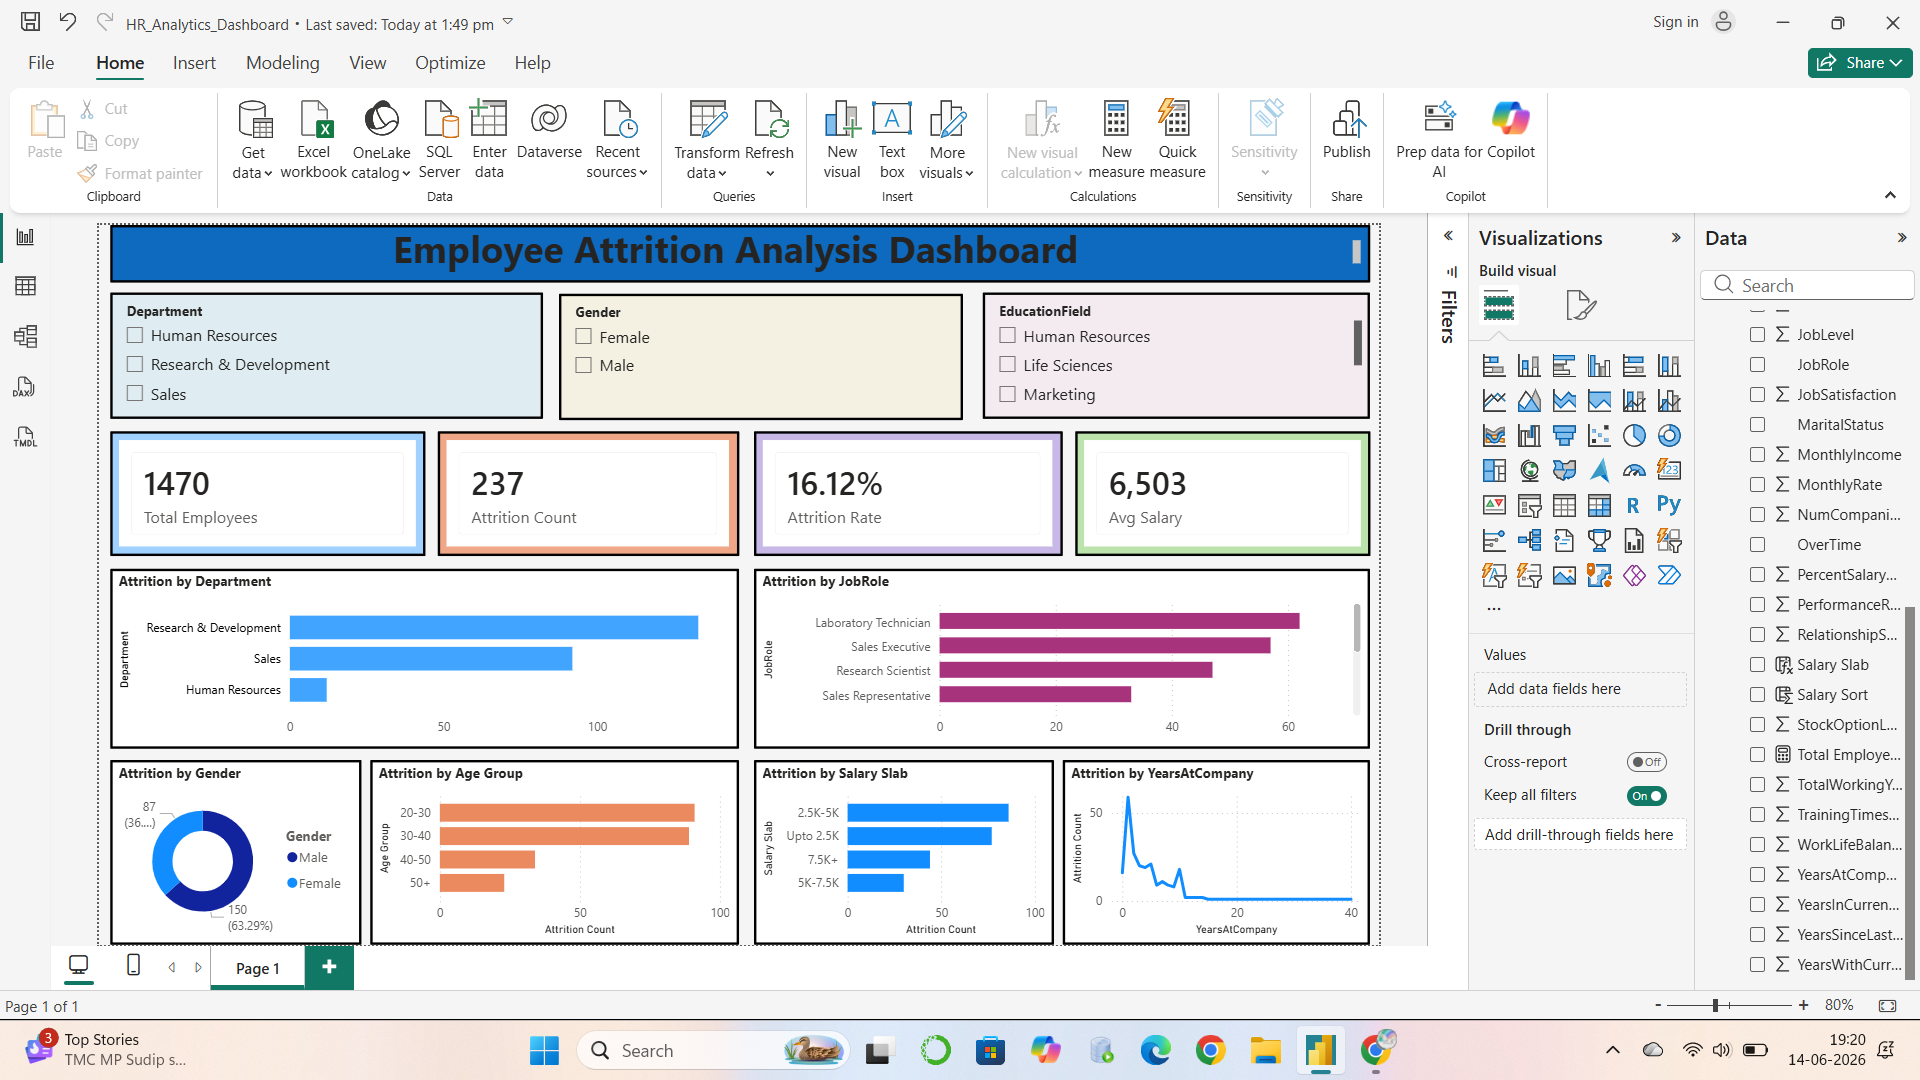

The page's visual inventory and layout, read from the dashboard file:
{"tool":"powerbi","page":{"name":"Page 1","canvas":[1280,720],"ordinal":0},"visuals":[{"type":"cardVisual","fields":{"Data":["WA_Fn-UseC_-HR-Employee-Attrition.Attrition Count"]},"box":[338.8,206.2,301.2,125],"z":0},{"type":"cardVisual","fields":{"Data":["WA_Fn-UseC_-HR-Employee-Attrition.Attrition Rate"]},"box":[655,206.2,308.8,125],"z":1000},{"type":"cardVisual","fields":{"Data":["WA_Fn-UseC_-HR-Employee-Attrition.Total Employees"]},"box":[11.2,206.2,315,125],"z":2000},{"type":"cardVisual","fields":{"Data":["WA_Fn-UseC_-HR-Employee-Attrition.Avg Salary"]},"box":[976.2,206.2,295,125],"z":3000},{"type":"clusteredBarChart","title":"Attrition by Department","fields":{"Category":["WA_Fn-UseC_-HR-Employee-Attrition.Department"],"Y":["WA_Fn-UseC_-HR-Employee-Attrition.Attrition Count"]},"box":[11.2,343.8,628.8,180],"z":4000},{"type":"clusteredBarChart","title":"Attrition by JobRole","fields":{"Category":["WA_Fn-UseC_-HR-Employee-Attrition.JobRole"],"Y":["WA_Fn-UseC_-HR-Employee-Attrition.Attrition Count"]},"box":[655,343.8,616.2,180],"z":5000},{"type":"barChart","title":"Attrition by Age Group","fields":{"Category":["WA_Fn-UseC_-HR-Employee-Attrition.Age Group"],"Y":["WA_Fn-UseC_-HR-Employee-Attrition.Attrition Count"]},"box":[271.2,535,368.8,185],"z":6000},{"type":"donutChart","title":"Attrition by Gender","fields":{"Category":["WA_Fn-UseC_-HR-Employee-Attrition.Gender"],"Y":["WA_Fn-UseC_-HR-Employee-Attrition.Attrition Count"]},"box":[11.2,535,251.2,185],"z":7000},{"type":"slicer","fields":{"Values":["WA_Fn-UseC_-HR-Employee-Attrition.Department"]},"box":[11.2,67.5,432.5,126.2],"z":8000},{"type":"slicer","fields":{"Values":["WA_Fn-UseC_-HR-Employee-Attrition.EducationField"]},"box":[883.8,67.5,387.5,126.2],"z":9000},{"type":"slicer","fields":{"Values":["WA_Fn-UseC_-HR-Employee-Attrition.Gender"]},"box":[460,68.8,403.8,126.2],"z":10000},{"type":"textbox","box":[11.2,0,1260,57.5],"z":11000},{"type":"clusteredBarChart","title":"Attrition by Salary Slab","fields":{"Category":["WA_Fn-UseC_-HR-Employee-Attrition.Salary Slab"],"Y":["WA_Fn-UseC_-HR-Employee-Attrition.Attrition Count"]},"box":[655,535,300,185],"z":11001},{"type":"lineChart","title":"Attrition by YearsAtCompany","fields":{"Category":["WA_Fn-UseC_-HR-Employee-Attrition.YearsAtCompany"],"Y":["WA_Fn-UseC_-HR-Employee-Attrition.Attrition Count"]},"box":[963.8,535,307.5,185],"z":11002}]}

Visuals, with their boxes on the page's 1280x720 design canvas (x1, y1, x2, y2). These are canvas units, not pixel positions in the 1920x1080 screenshot, which may show the page scaled, cropped or inside an application window:
cardVisual - WA_Fn-UseC_-HR-Employee-Attrition.Attrition Count: box(339, 206, 640, 331)
cardVisual - WA_Fn-UseC_-HR-Employee-Attrition.Attrition Rate: box(655, 206, 964, 331)
cardVisual - WA_Fn-UseC_-HR-Employee-Attrition.Total Employees: box(11, 206, 326, 331)
cardVisual - WA_Fn-UseC_-HR-Employee-Attrition.Avg Salary: box(976, 206, 1271, 331)
"Attrition by Department" clusteredBarChart: box(11, 344, 640, 524)
"Attrition by JobRole" clusteredBarChart: box(655, 344, 1271, 524)
"Attrition by Age Group" barChart: box(271, 535, 640, 720)
"Attrition by Gender" donutChart: box(11, 535, 262, 720)
slicer - WA_Fn-UseC_-HR-Employee-Attrition.Department: box(11, 68, 444, 194)
slicer - WA_Fn-UseC_-HR-Employee-Attrition.EducationField: box(884, 68, 1271, 194)
slicer - WA_Fn-UseC_-HR-Employee-Attrition.Gender: box(460, 69, 864, 195)
textbox: box(11, 0, 1271, 58)
"Attrition by Salary Slab" clusteredBarChart: box(655, 535, 955, 720)
"Attrition by YearsAtCompany" lineChart: box(964, 535, 1271, 720)
